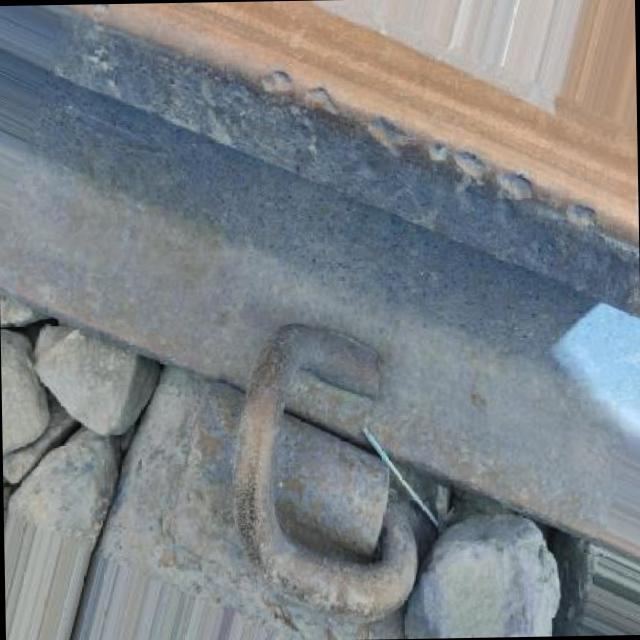defective: (0, 43, 640, 478)
